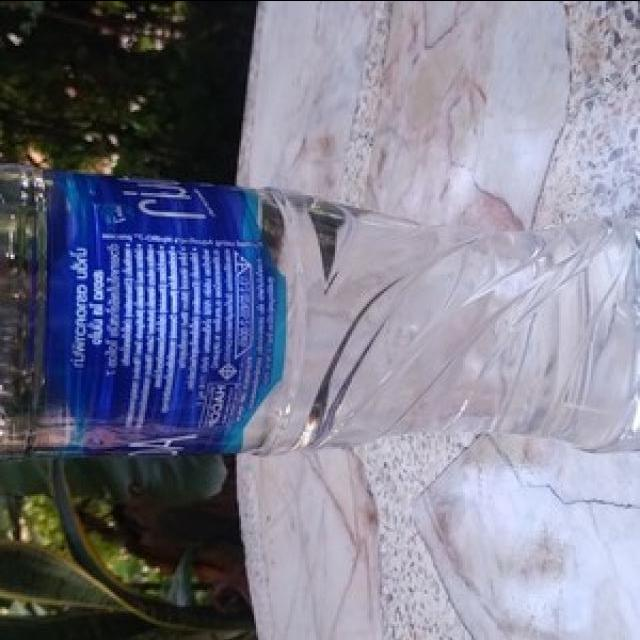label: (36, 162, 268, 464)
not-crumbled: (0, 165, 634, 462)
